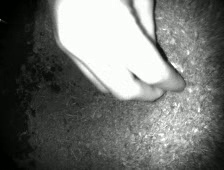corn: (166, 59, 179, 72), (174, 61, 185, 75)
